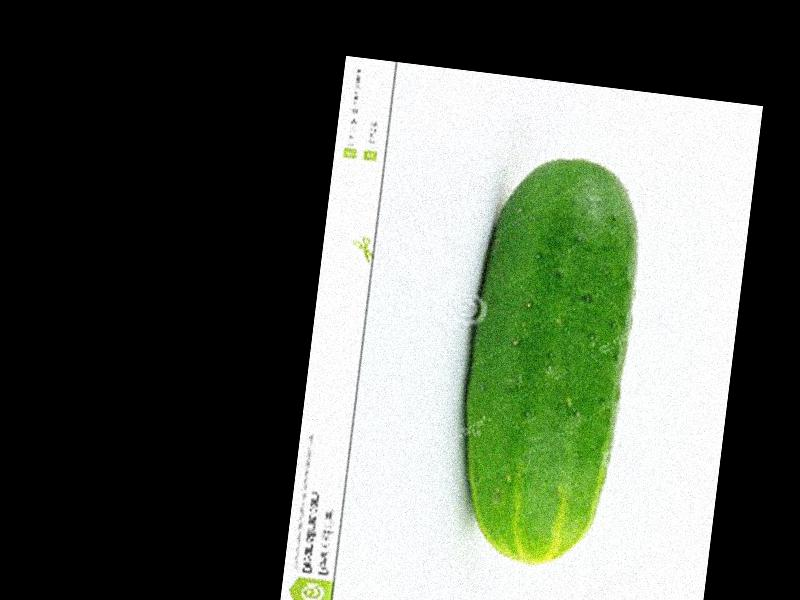Cucumber: (446, 148, 647, 570)
